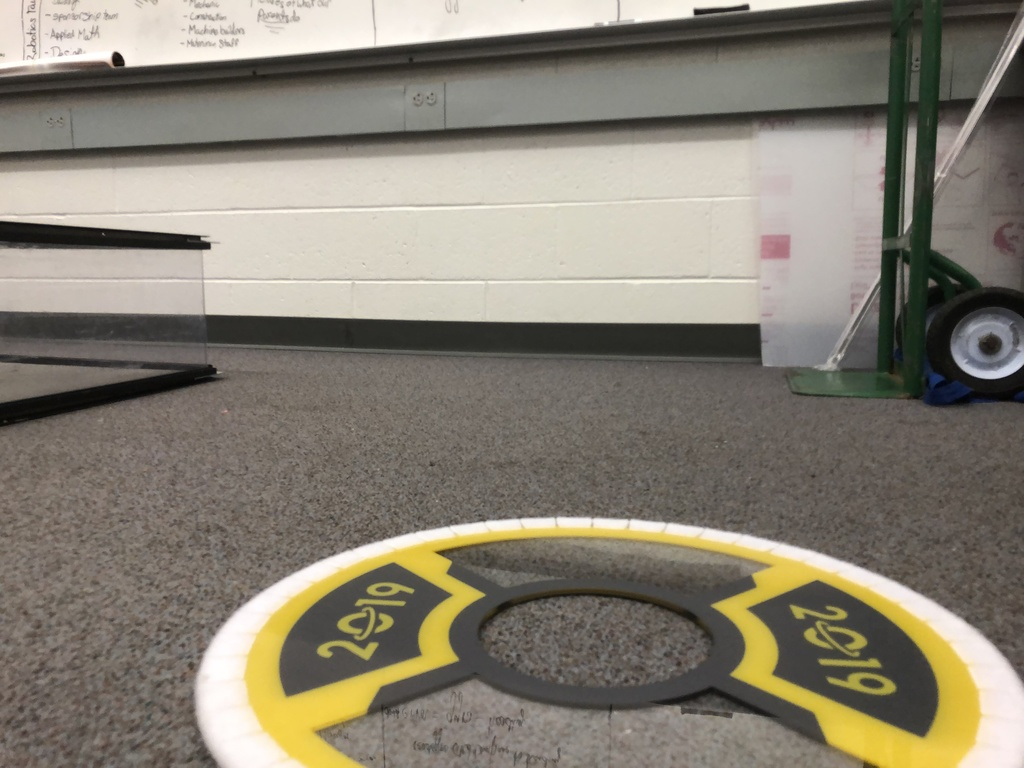hatch_panel: (183, 499, 1024, 767)
